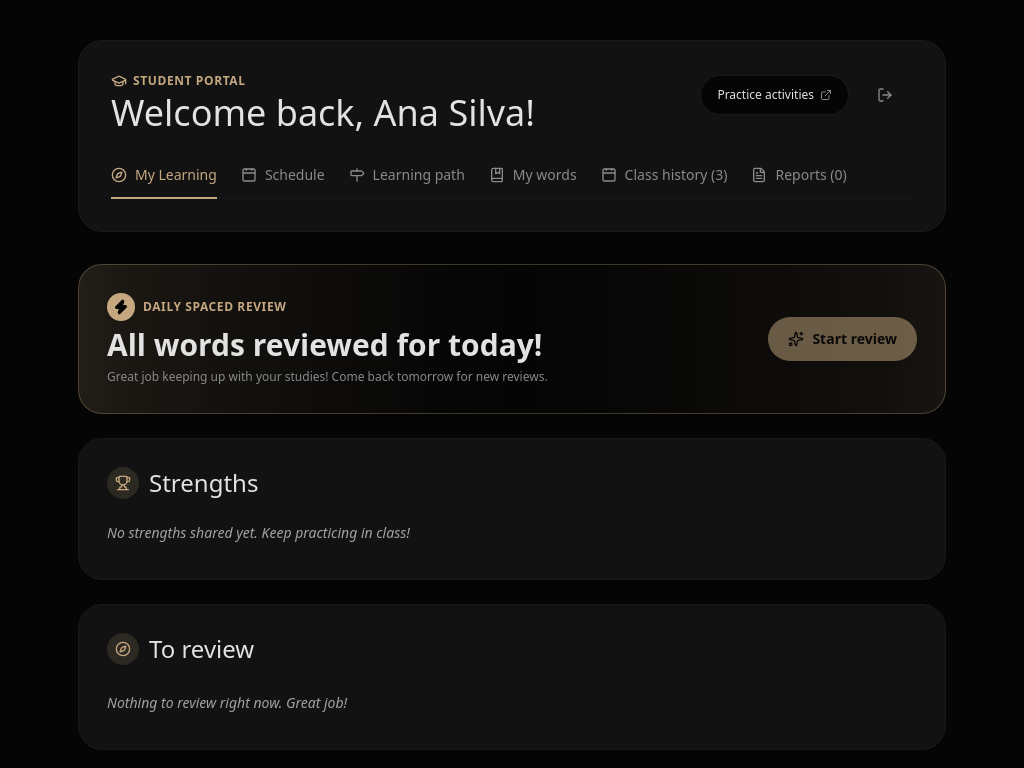
Scenario: StudentPortalView (spec 03: RF03, RF04, RF05, RF06, CA03, CA04, CA05, CA07, CA08, CT03, CT04, CT07) › displays Class history with 3 sessions, activities, words, and whiteboard (RF05, CA04, CT04)
The width and height of the screenshot is (1024, 768).
# Switch to Class history tab
Click the tab "Class history (3)".
click(664, 182)  # box [601,165,728,199]
(page scrolled)
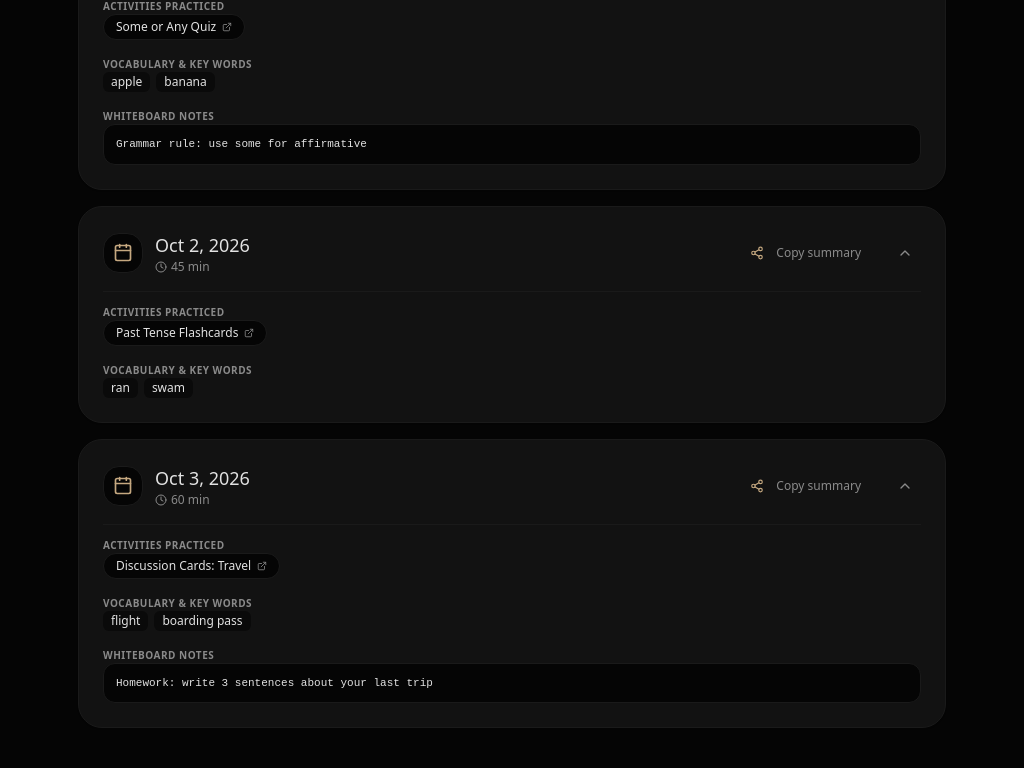
Result: the heading "Oct 2, 2026" is shown at [155,231,250,259]
Result: the heading "Oct 3, 2026" is shown at [155,464,250,492]
Result: the text "Some or Any Quiz" is shown at [116,19,216,35]
